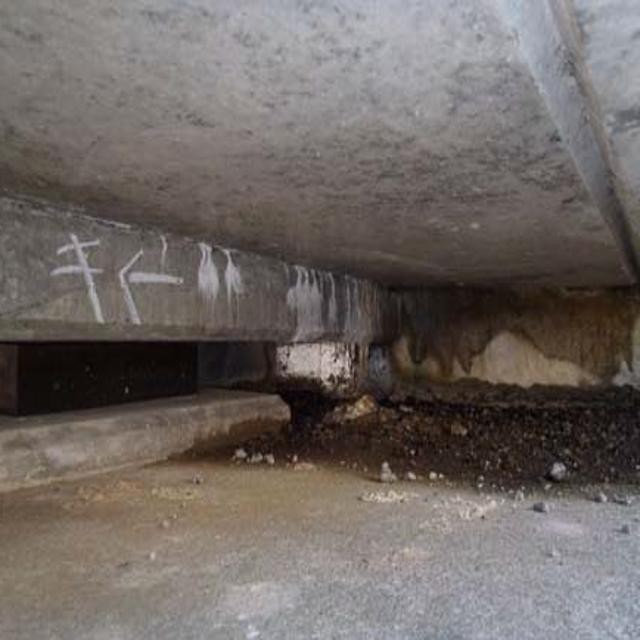freelime: (172, 242, 352, 347)
leakage: (368, 268, 640, 381)
